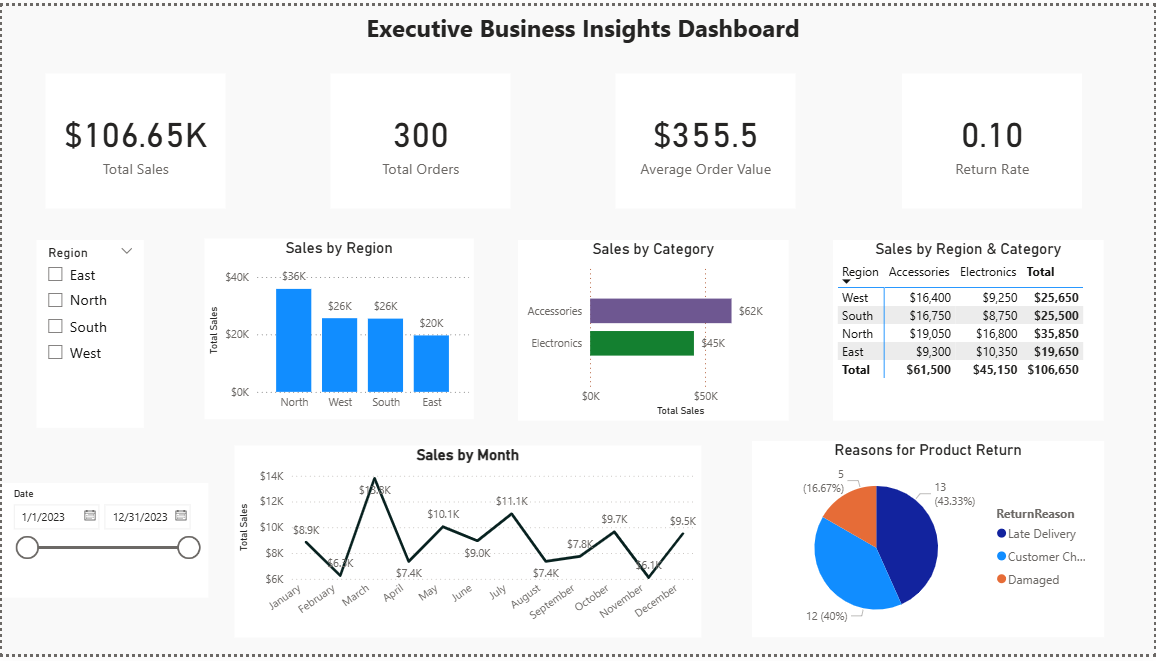

Layout of this report page (visuals, bound fields, positions):
{"tool":"powerbi","page":{"name":"Executive Dashboard","canvas":[1280,720],"ordinal":0},"visuals":[{"type":"textbox","box":[9.5,0,1270.9,65.2],"z":0},{"type":"card","fields":{"Values":["Orders.Total Sales"]},"box":[47.7,75.6,200,150],"z":1000},{"type":"card","fields":{"Values":["Orders.Total Orders"]},"box":[364.8,75.6,200,150],"z":2000},{"type":"card","fields":{"Values":["Orders.Average Order Value"]},"box":[682.4,75.6,200,150],"z":3000},{"type":"card","fields":{"Values":["Date.Return Rate"]},"box":[1000.5,75.6,200,150],"z":4000},{"type":"columnChart","title":"Sales by Region","fields":{"Category":["Customers.Region"],"Y":["Orders.Total Sales"]},"box":[224.3,257.7,299,200.4],"z":5000},{"type":"clusteredBarChart","title":"Sales by Category","fields":{"Category":["Products.Category"],"Y":["Orders.Total Sales"]},"box":[573.4,259.3,300.6,200.4],"z":6000},{"type":"lineChart","title":"Sales by Month","fields":{"Category":["Date.Date.Variation.Date Hierarchy.Year","Date.Date.Variation.Date Hierarchy.Quarter","Date.Date.Variation.Date Hierarchy.Month","Date.Date.Variation.Date Hierarchy.Day"],"Y":["Orders.Total Sales"]},"box":[257.7,488.3,518.5,213.1],"z":7000},{"type":"pivotTable","title":"Sales by Region & Category","fields":{"Rows":["Customers.Region"],"Columns":["Products.Category"],"Values":["Orders.Total Sales"]},"box":[924.1,259.3,300.6,200.4],"z":8000},{"type":"pieChart","title":"Reasons for Product Return","fields":{"Y":["Returns.Total Returns"],"Category":["Returns.ReturnReason"]},"box":[833.5,483.5,391.3,217.9],"z":9000},{"type":"slicer","fields":{"Values":["Date.Date"]},"box":[0,529.7,229,127.2],"z":10000},{"type":"slicer","fields":{"Values":["Customers.Region"]},"box":[38.2,259.3,119.3,208.4],"z":11000}]}

Visuals, with their boxes in screenshot pixels (x1, y1, x2, y2), scaled from the page's 1280x720 canvas onto the 1156x661 screenshot:
textbox: (left=9, top=0, right=1155, bottom=60)
card - Orders.Total Sales: (left=43, top=69, right=224, bottom=207)
card - Orders.Total Orders: (left=329, top=69, right=510, bottom=207)
card - Orders.Average Order Value: (left=616, top=69, right=797, bottom=207)
card - Date.Return Rate: (left=904, top=69, right=1084, bottom=207)
"Sales by Region" columnChart: (left=203, top=237, right=473, bottom=421)
"Sales by Category" clusteredBarChart: (left=518, top=238, right=789, bottom=422)
"Sales by Month" lineChart: (left=233, top=448, right=701, bottom=644)
"Sales by Region & Category" pivotTable: (left=835, top=238, right=1106, bottom=422)
"Reasons for Product Return" pieChart: (left=753, top=444, right=1106, bottom=644)
slicer - Date.Date: (left=0, top=486, right=207, bottom=603)
slicer - Customers.Region: (left=34, top=238, right=142, bottom=429)
